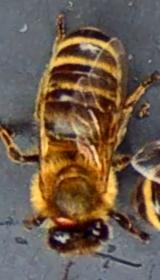varroa_mite: (41, 210, 86, 237)
